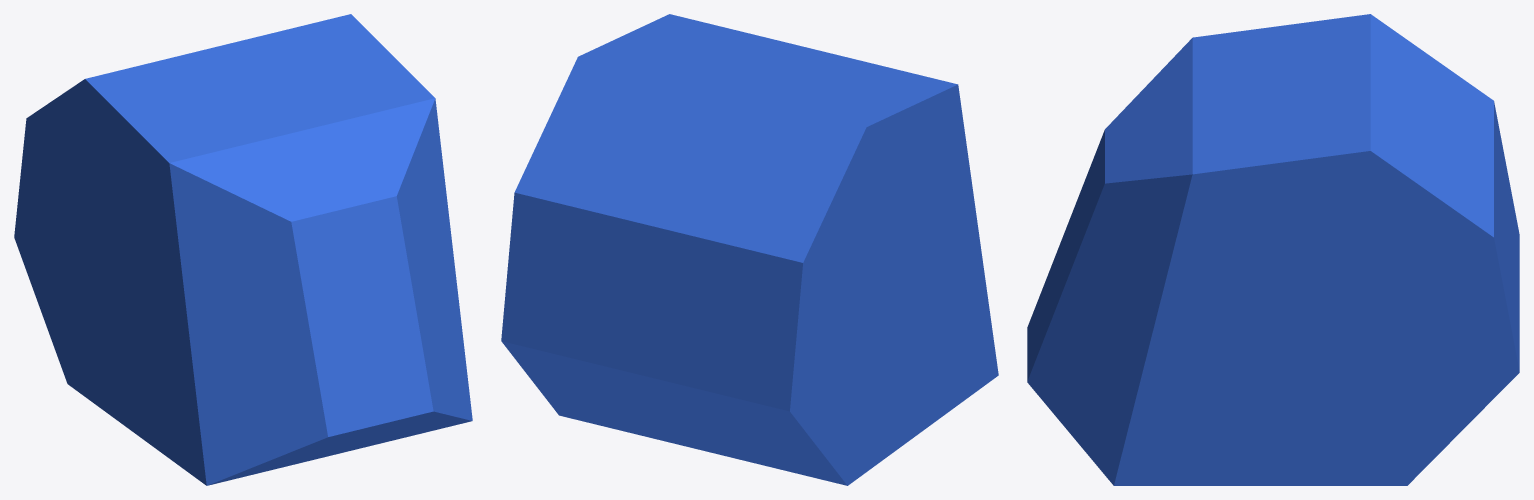
Rendered from Collision_Skull_Top.fbx.
3 views of the same model, side by side, from view 1: azimuth 30°, elevation 25°; view 2: azimuth 150°, elevation 25°; view 3: azimuth 270°, elevation 25° (orthographic). The views are drawn at different scales.
Visible parts, largest first — view 1: UCX_Skull_Top_1; view 2: UCX_Skull_Top_1; view 3: UCX_Skull_Top_1.
Part boxes in pixels (box(x1,y1,x2,y2)): UCX_Skull_Top_1: box(14, 14, 472, 485); UCX_Skull_Top_1: box(501, 14, 998, 485); UCX_Skull_Top_1: box(1027, 14, 1519, 485).
Size of the model in its own units: 15.27 by 17.43 by 23.22.
